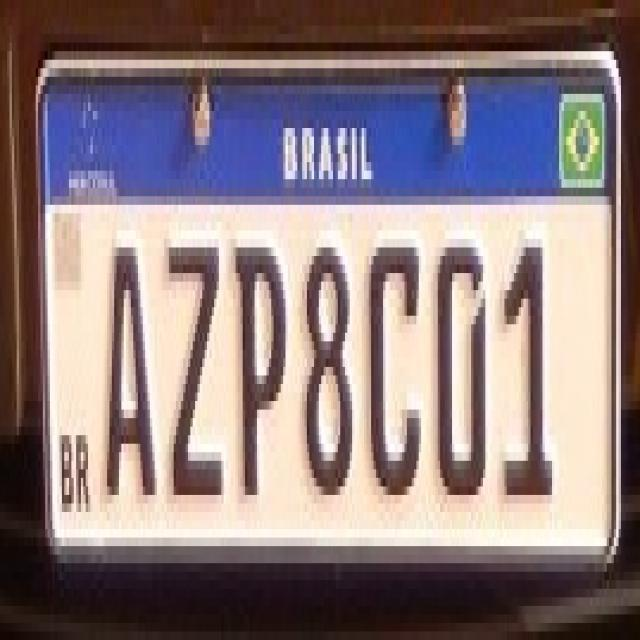0: (423, 222, 492, 495)
1: (490, 214, 554, 486)
8: (293, 222, 357, 495)
A: (88, 222, 160, 504)
C: (357, 222, 426, 495)
P: (222, 222, 290, 486)
Z: (152, 213, 224, 494)
